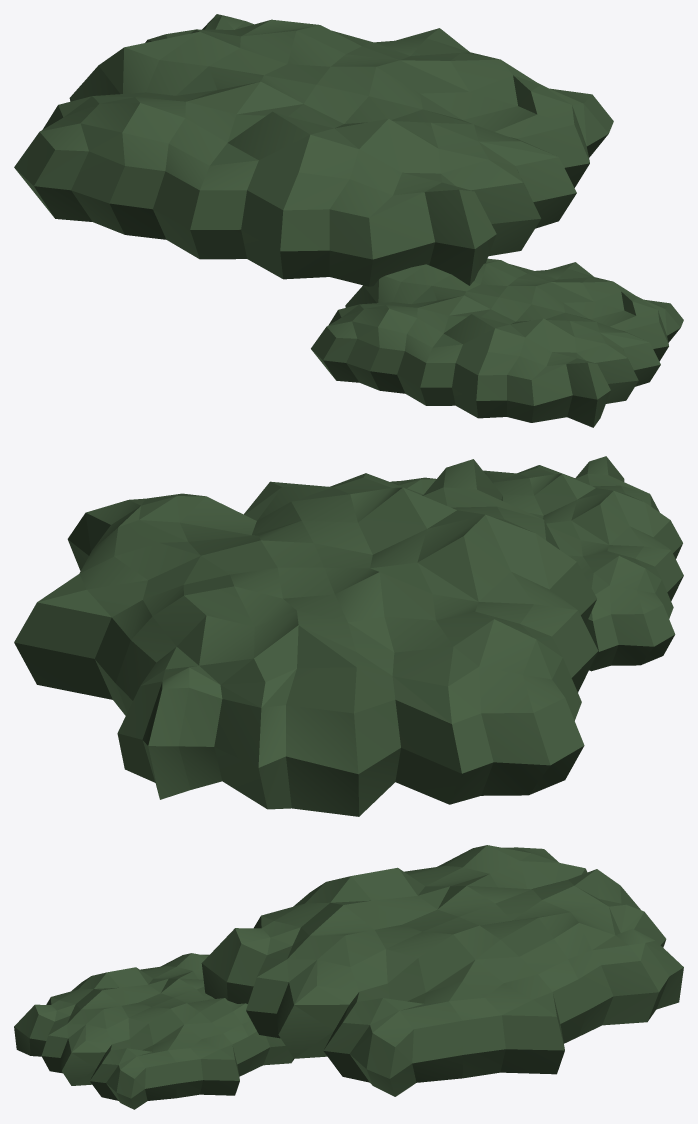
File: Büyük yeşil dağ.fbx
The picture shows the model from 3 angles, top to bottom: view 1: azimuth 30°, elevation 25°; view 2: azimuth 150°, elevation 25°; view 3: azimuth 270°, elevation 25°; orthographic projection. The views are drawn at different scales.
Visible parts, largest first — view 1: Model; view 2: Model; view 3: Model.
Boxes of the visible parts, <box> form: Model: <box>14,14,683,427</box>; Model: <box>14,456,683,816</box>; Model: <box>14,845,683,1109</box>.
Size of the model in its own units: 3562 by 1158 by 4880.
